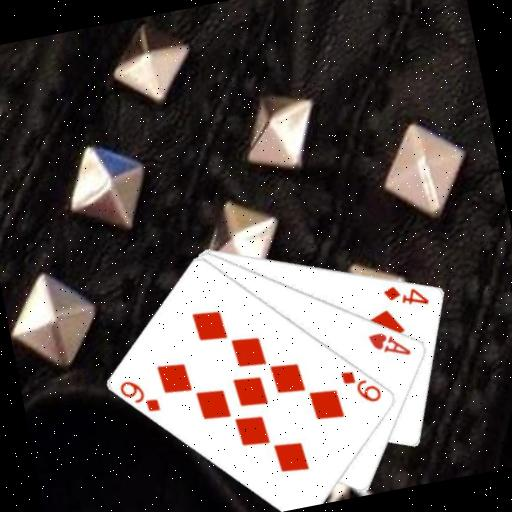4D: (379, 276, 432, 314)
9D: (337, 362, 385, 409), (116, 373, 163, 420)
AH: (365, 324, 414, 364)
